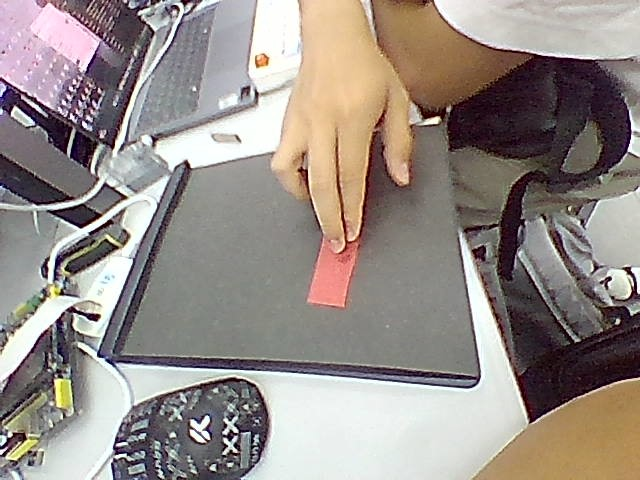card: (307, 240, 358, 308)
